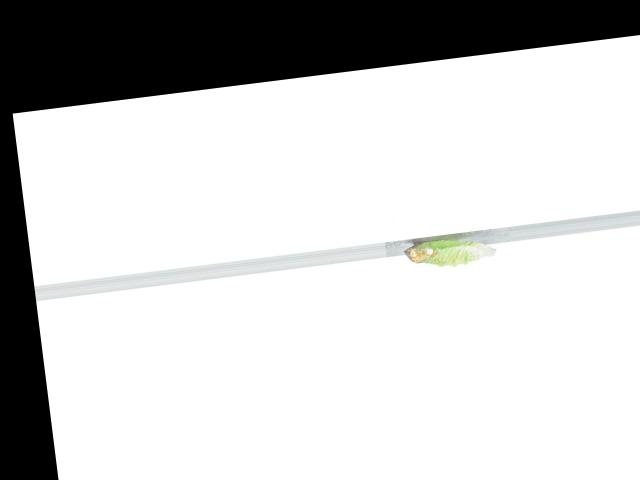lettuce: (399, 228, 499, 275)
